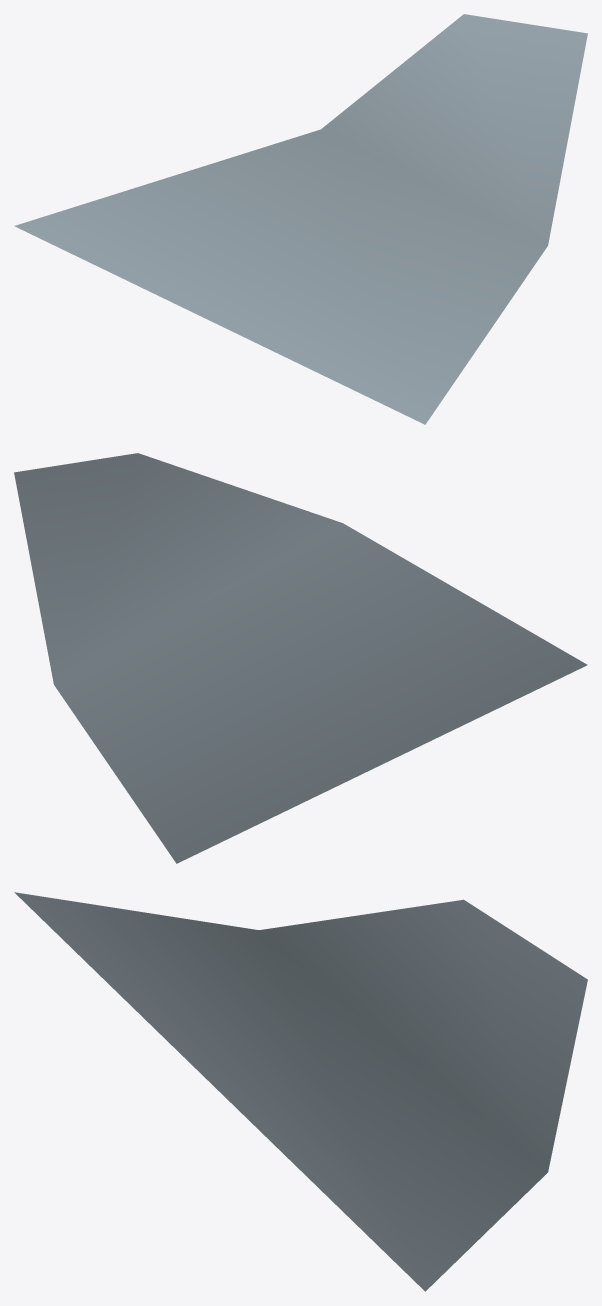
3 views of the same model, one above another, from view 1: azimuth 30°, elevation 25°; view 2: azimuth 150°, elevation 25°; view 3: azimuth 330°, elevation 25° (orthographic).
Parts seen in each view (by area): view 1: pCube52; view 2: pCube52; view 3: pCube52.
Part boxes in pixels (left/top/right/bottom): pCube52: left=14, top=14, right=587, bottom=424; pCube52: left=14, top=453, right=587, bottom=863; pCube52: left=14, top=892, right=587, bottom=1291.
Size of the model in its own units: 32.07 by 21.44 by 2.99.
